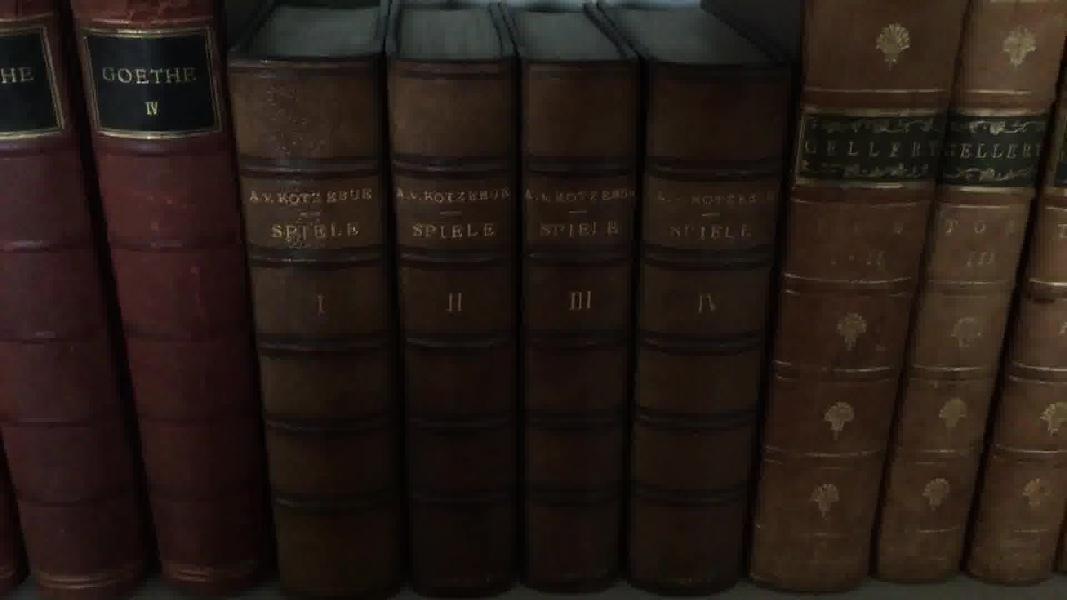Aa6-14_17: (204, 43, 784, 600)
